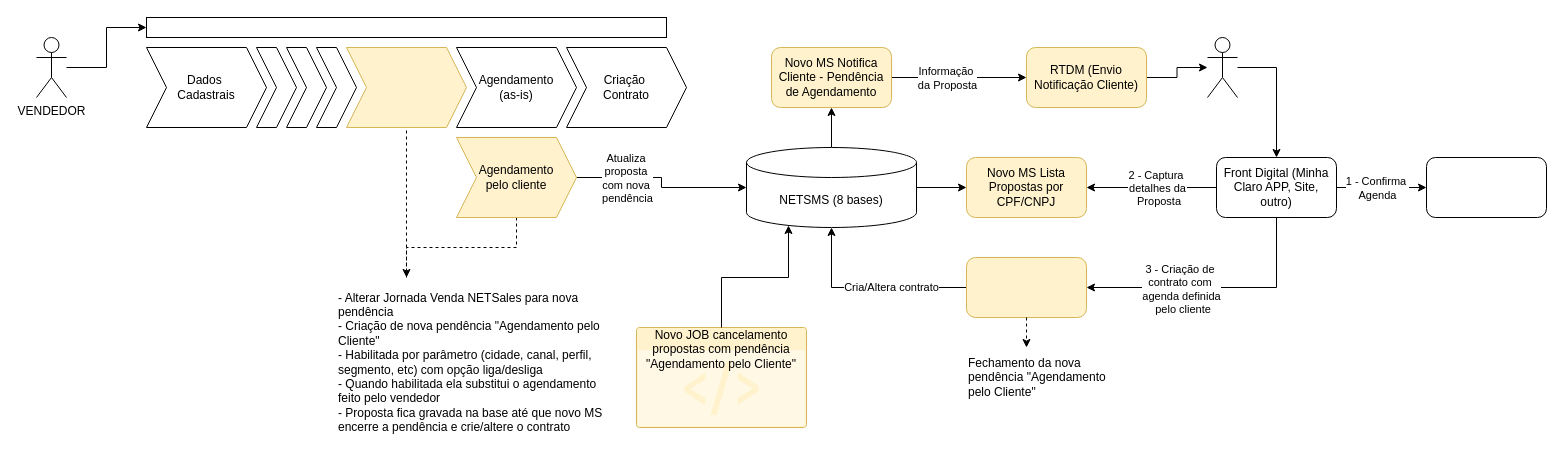
The diagram is 1564 pixels wide and 465 high, and some of its shapes have lost their labels. Here are the shapes that lost their labels. From the top down, the centre of each, then its label:
At pixel 406 27: "JORNADA VENDAS NETSALES PROSPECT E BASE PARA PF E PME".
At pixel 406 87: "Pendências".
At pixel 1222 67: "Cliente".
At pixel 1486 187: "Confirma agendamento no TOA (segmento correto de cliente)".
At pixel 1026 287: "Novo MS Confirma Contrato".
